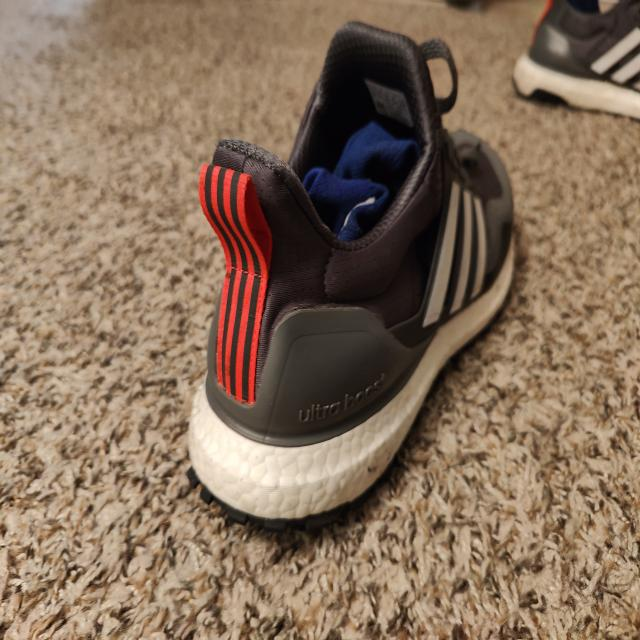black shoes: (200, 11, 507, 509)
